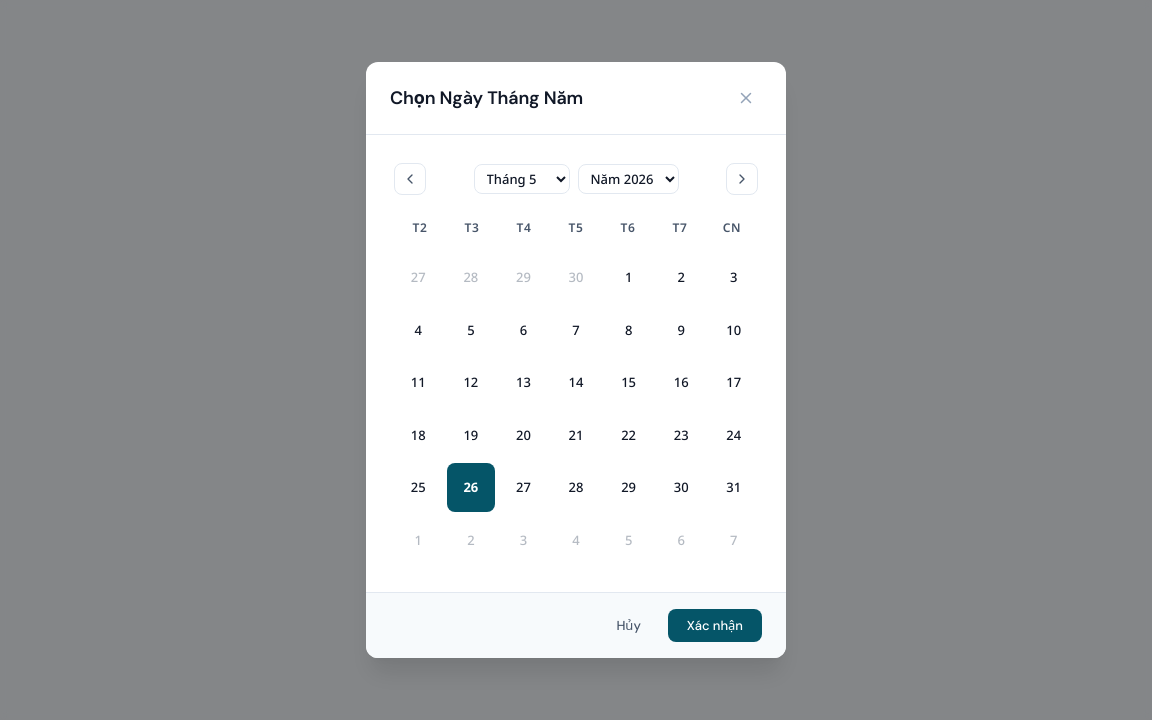
Scenario: DatePickerModal › updates view when changing dropdown selectors
Select "Tháng 12" in the dropdown named "Chọn tháng": (522, 179) left=474, top=164, right=570, bottom=194
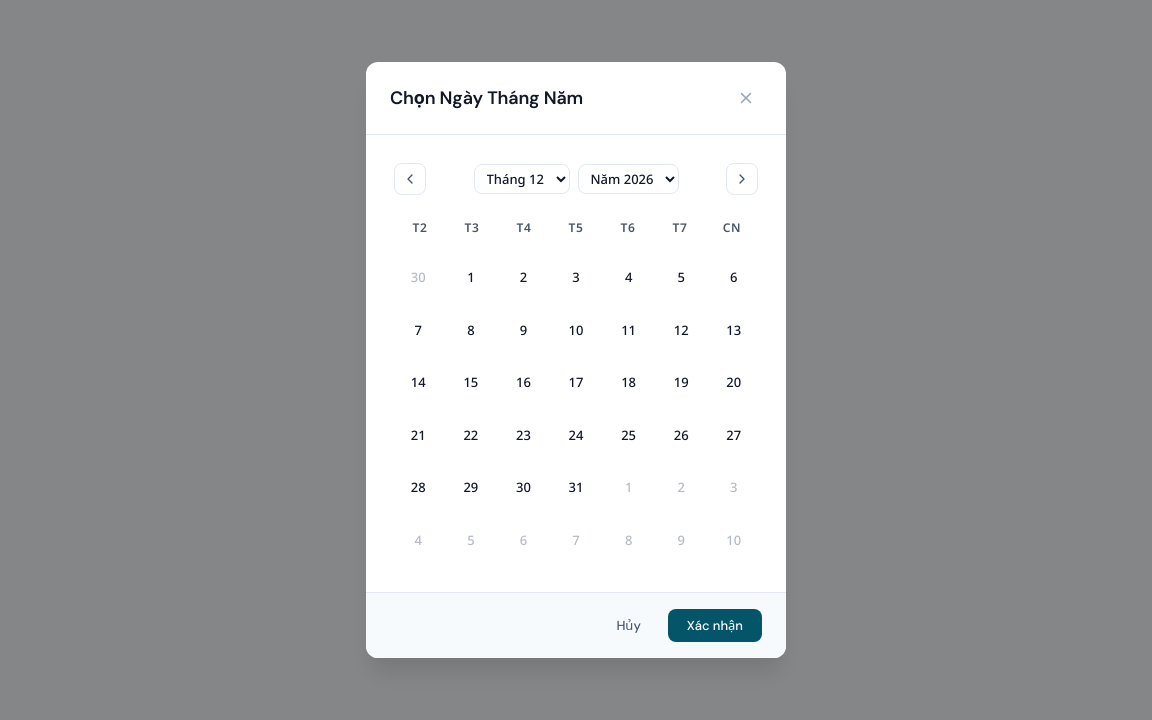
Select "Năm 2028" in the dropdown named "Chọn năm": (628, 179) left=578, top=164, right=678, bottom=194
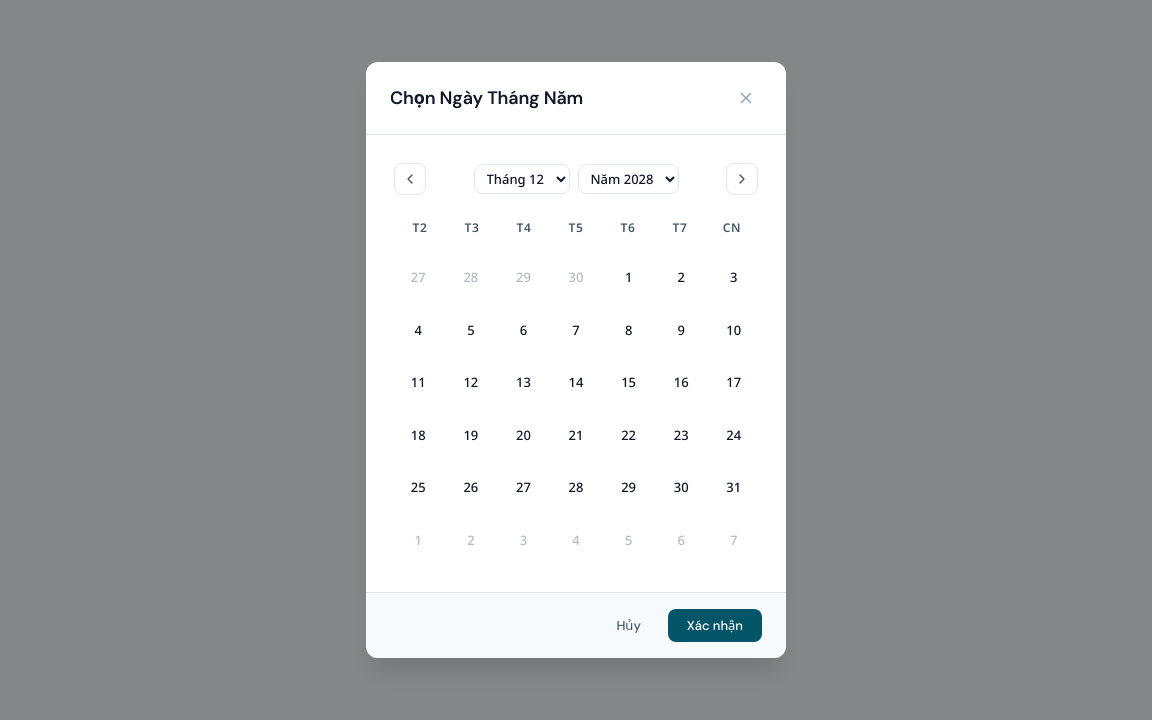
Now the button named "25 Tháng 12 Năm 2028" is shown, box left=394, top=463, right=443, bottom=512
